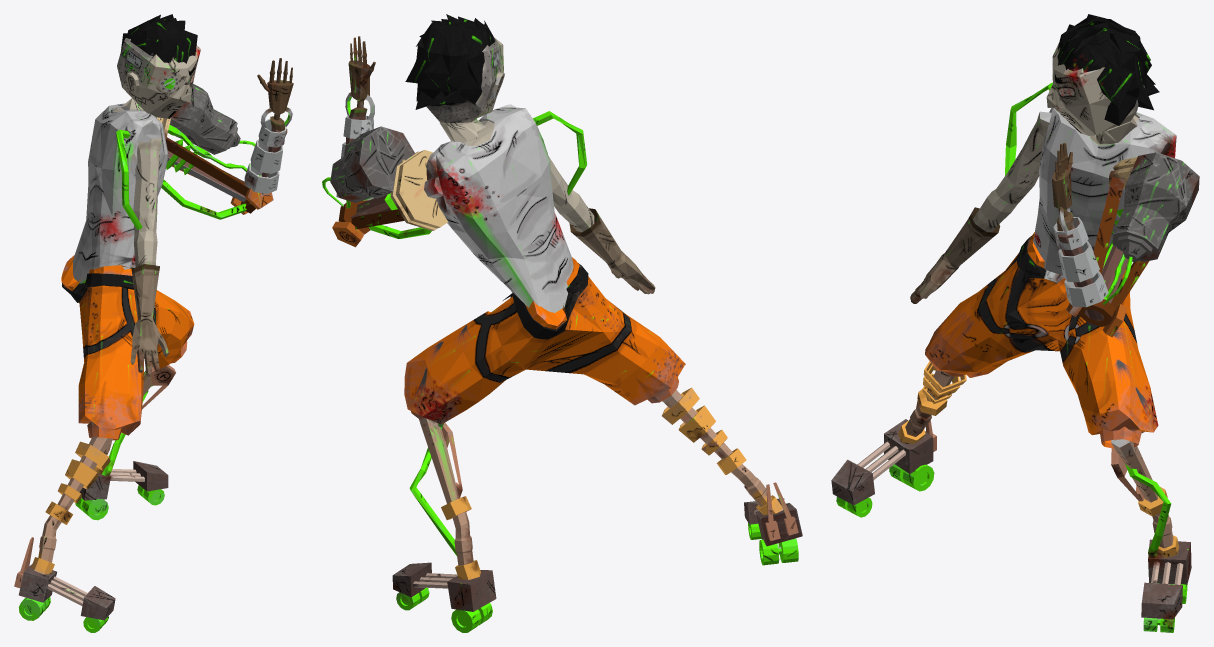
File: CyborgFINALAnimation_000068.obj
3 views of the same model, side by side, from view 1: azimuth 30°, elevation 25°; view 2: azimuth 150°, elevation 25°; view 3: azimuth 270°, elevation 25° (orthographic). The views are drawn at different scales.
Parts seen in each view (by area): view 1: CyborgMesh_Cube.002; view 2: CyborgMesh_Cube.002; view 3: CyborgMesh_Cube.002.
Part boxes in pixels (x1,y1,x2,y2): CyborgMesh_Cube.002: (14, 14, 293, 632); CyborgMesh_Cube.002: (322, 14, 802, 632); CyborgMesh_Cube.002: (831, 14, 1199, 632).
Size of the model in its own units: 6.04 by 8.64 by 4.76.
